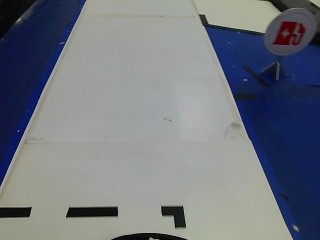battery: (260, 8, 317, 59)
